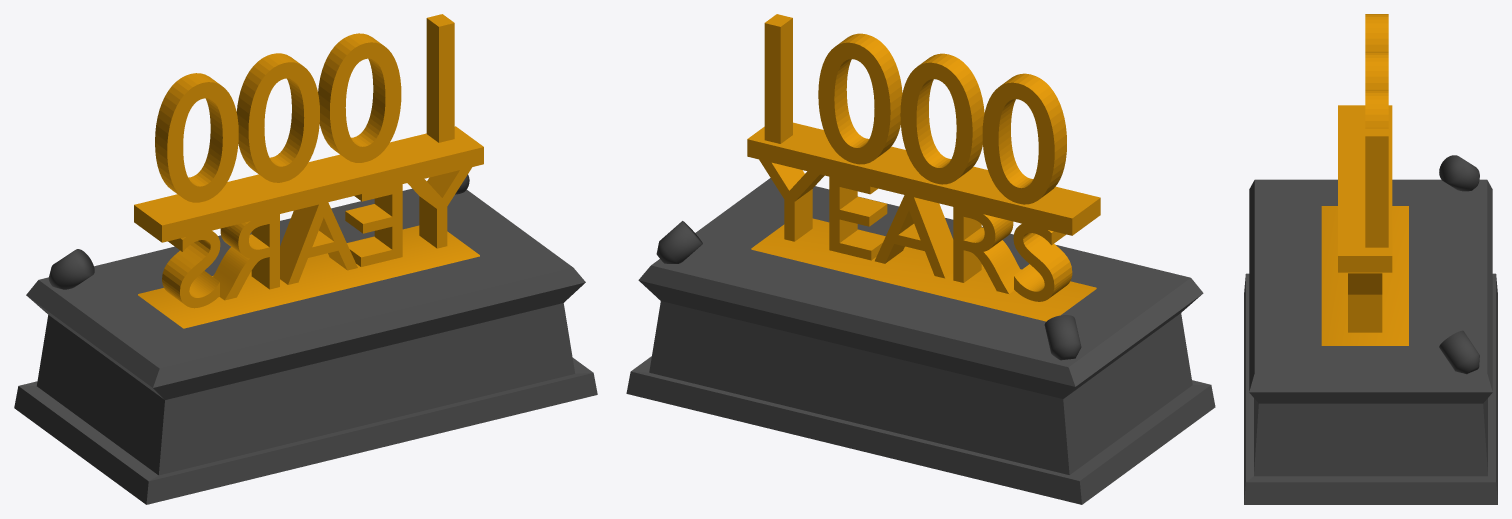
The model's file is 1000YEARS.gltf.
3 views of the same model, side by side, from view 1: azimuth 30°, elevation 25°; view 2: azimuth 150°, elevation 25°; view 3: azimuth 270°, elevation 25° (orthographic). The views are drawn at different scales.
Parts seen in each view (by area): view 1: Cube.020, Text, Text.001, Cube.051, Cube.053, Cylinder; view 2: Cube.020, Text, Text.001, Cube.051, Cube.053, Cylinder.002, Cylinder.003; view 3: Cube.020, Cube.053, Cube.051, Text, Text.001, Cylinder, Cylinder.001, Cylinder.003, Cylinder.002.
Part boxes in pixels (<box>): Cube.020: <box>14,188,597,504</box>; Text: <box>155,14,454,202</box>; Text.001: <box>162,167,472,308</box>; Cube.051: <box>134,126,483,242</box>; Cube.053: <box>138,225,479,328</box>; Cylinder: <box>51,249,94,289</box>; Cube.020: <box>626,178,1215,504</box>; Text: <box>764,14,1066,204</box>; Text.001: <box>759,159,1072,301</box>; Cube.051: <box>747,122,1100,235</box>; Cube.053: <box>751,218,1096,321</box>; Cylinder.002: <box>1044,315,1081,360</box>; Cylinder.003: <box>656,221,702,263</box>; Cube.020: <box>1244,179,1497,504</box>; Cube.053: <box>1321,206,1408,345</box>; Cube.051: <box>1338,105,1392,272</box>; Text: <box>1365,14,1388,247</box>; Text.001: <box>1348,272,1382,332</box>; Cylinder: <box>1439,155,1478,191</box>; Cylinder.001: <box>1439,335,1471,374</box>; Cylinder.003: <box>1452,330,1479,373</box>; Cylinder.002: <box>1454,158,1479,190</box>.
Size of the model in its own units: 4.3 by 3.15 by 2.18.
